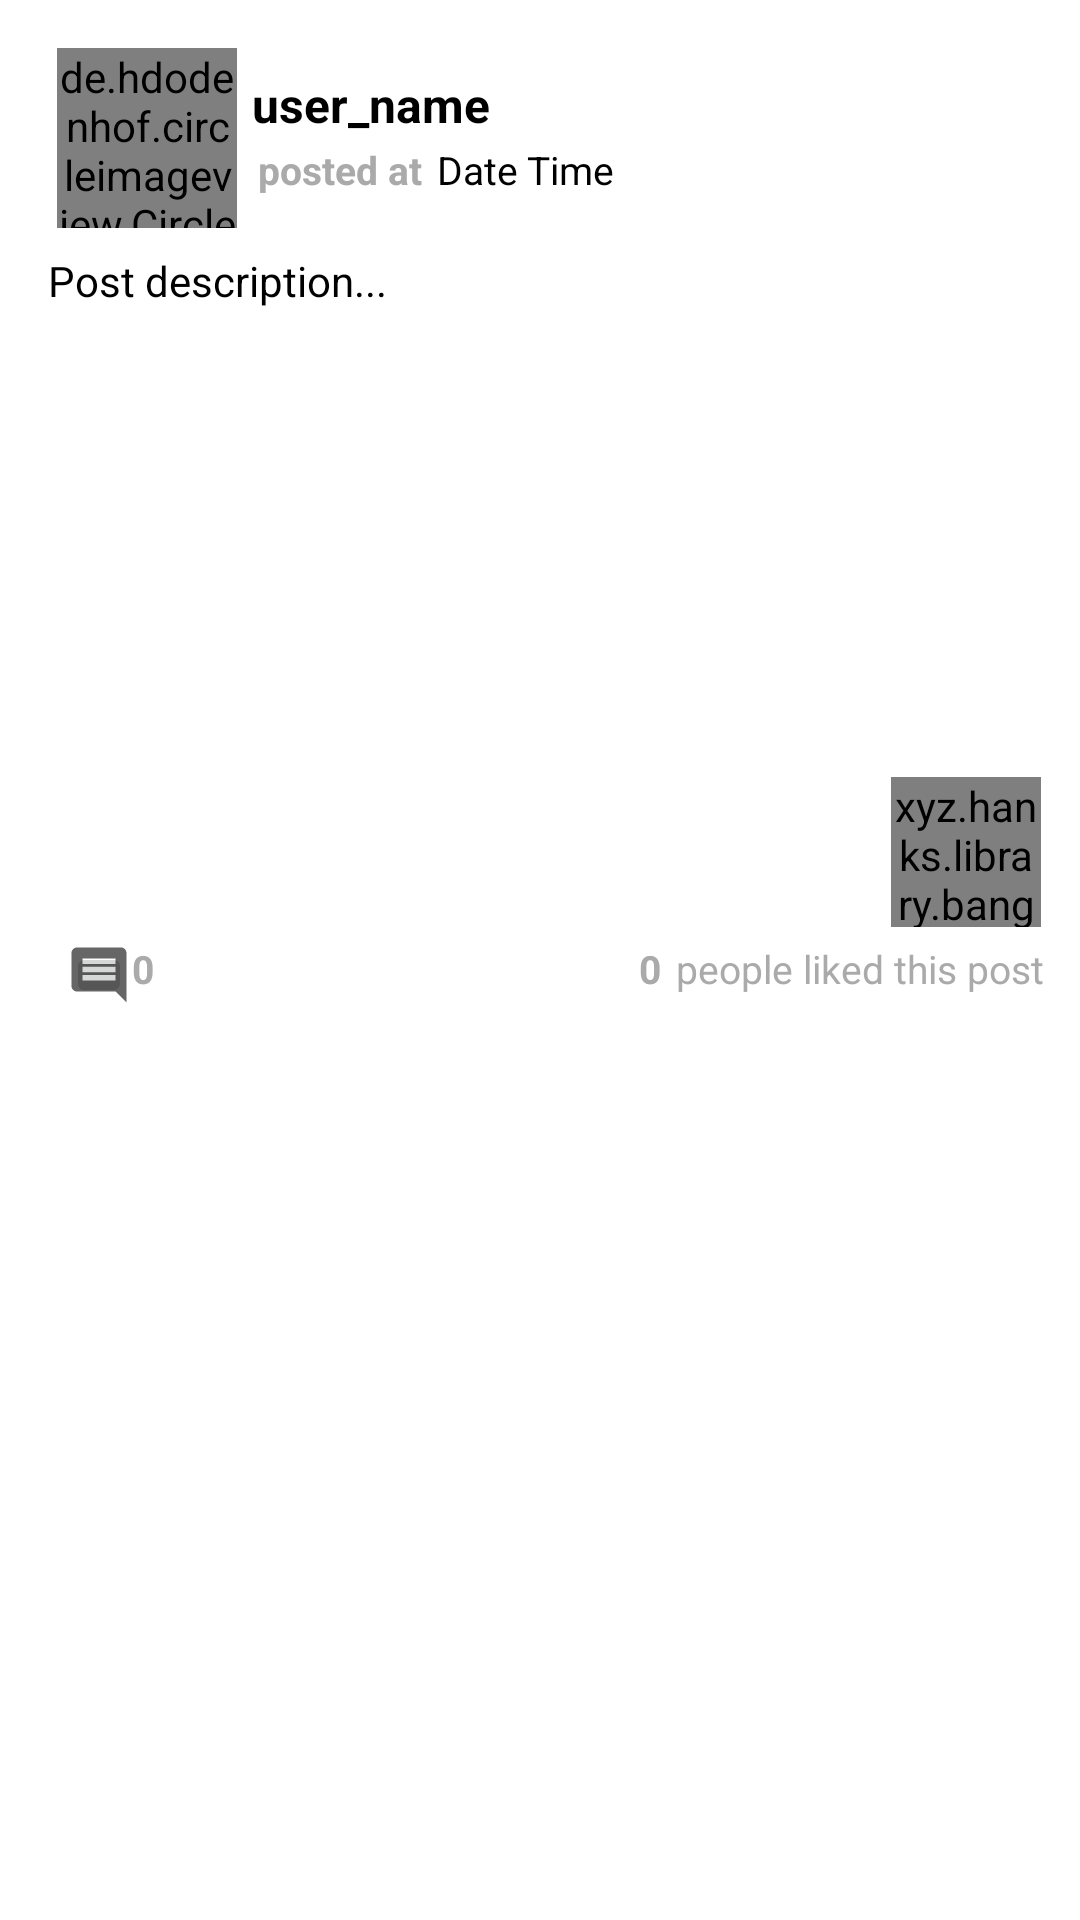

Screen size 1080 x 1920. Icon name, then its center in pixels as (x=x, y=y):
comment: (x=99, y=974)
